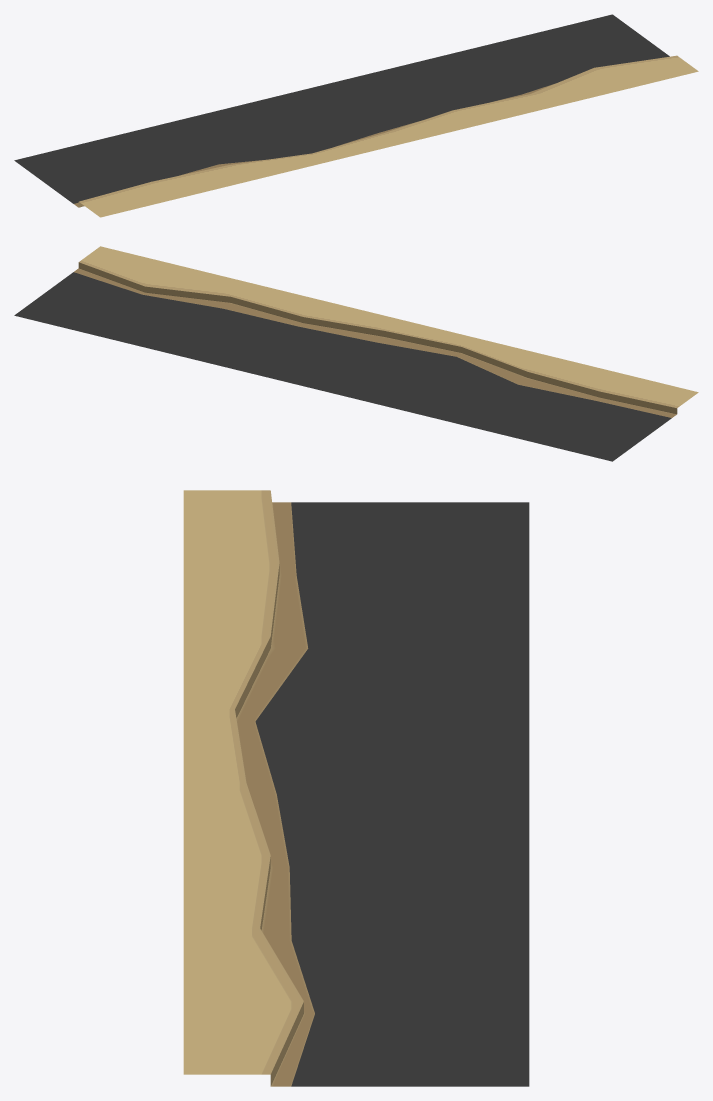
Rendered from SM_Env_Road_Asphalt_Long_01.fbx.
3 views of the same model, one above another, from view 1: azimuth 30°, elevation 25°; view 2: azimuth 150°, elevation 25°; view 3: azimuth 270°, elevation 25° (orthographic). The views are drawn at different scales.
Parts seen in each view (by area): view 1: SM_Env_Road_Asphalt_Long_01; view 2: SM_Env_Road_Asphalt_Long_01; view 3: SM_Env_Road_Asphalt_Long_01.
Boxes of the visible parts, x1,y1,x2,y2 form: SM_Env_Road_Asphalt_Long_01: (14,14,698,217); SM_Env_Road_Asphalt_Long_01: (14,246,698,461); SM_Env_Road_Asphalt_Long_01: (183,490,529,1086).
Size of the model in its own units: 20 by 0.1948 by 5.
